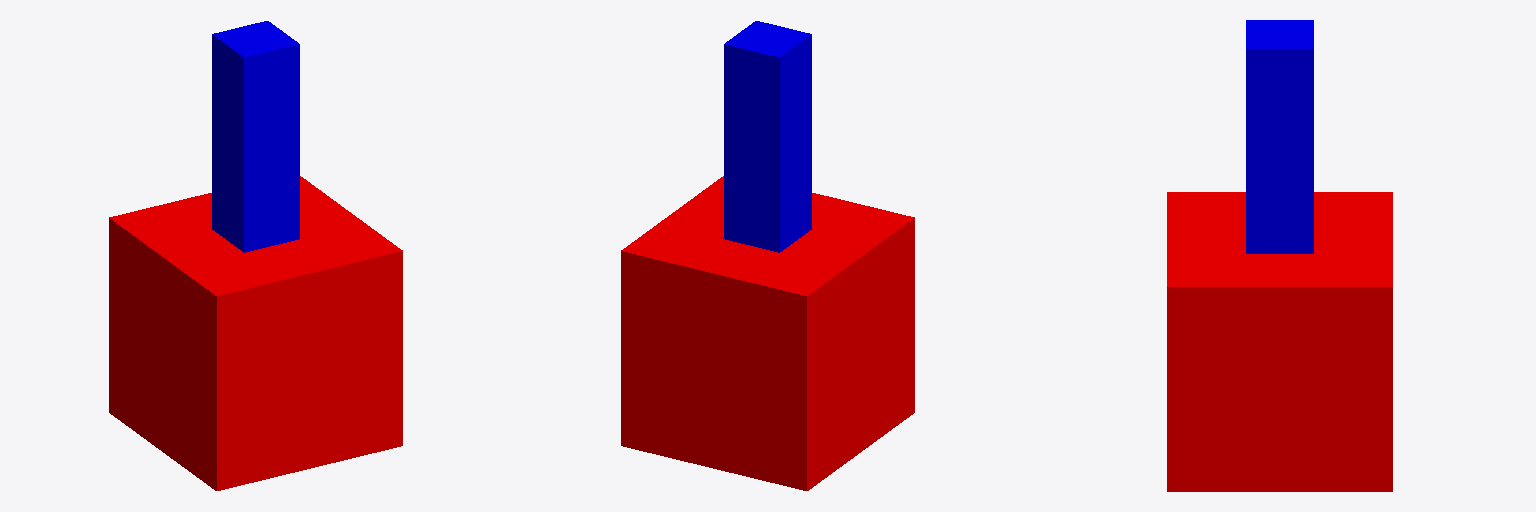
URDF robot description (arcsys2):
<?xml version="1.0"?>

<robot name="arcsys2">
  <material name="red"> <color rgba="1 0 0 1"/> </material>
  <material name="green"> <color rgba="0 1 0 1"/> </material>
  <material name="blue">  <color rgba="0 0 1 1"/> </material>

  <link name="base_link">
    <visual>
      <origin xyz="0.0 0.0 0.5" rpy="0.0 0.0 0.0"/>
      <geometry> <box size="1.0 1.0 1.0"/> </geometry>
      <material name="red"/>
    </visual>
  </link>

  <joint name="base2shaft" type="fixed">
    <parent link="base_link"/>
    <child link="main_shaft"/>
  </joint>

  <link name="main_shaft">
    <visual>
      <origin xyz="0.0 0.0 1.5" rpy="0.0 0.0 0.0"/>
      <geometry> <box size="0.3 0.3 1.0"/> </geometry>
      <material name="blue"/>
    </visual>
  </link>

</robot>

--- What the picture shows (computed from the rendered views, not written in the file) ---
3 views of the same robot in one strip: view 1: azimuth 30°, elevation 25°; view 2: azimuth 150°, elevation 25°; view 3: azimuth 270°, elevation 25° (orthographic).
Robot: arcsys2 — 2 links, 1 joints (1 fixed); root link base_link; default pose: all joints at 0.
Links seen in each view (by area): view 1: base_link, main_shaft; view 2: base_link, main_shaft; view 3: base_link, main_shaft.
Link boxes in pixels (x1,y1,x2,y2): base_link: (109,176,402,490); main_shaft: (212,21,299,252); base_link: (621,176,914,490); main_shaft: (724,21,811,252); base_link: (1167,192,1392,491); main_shaft: (1246,20,1313,253).
Size in the robot's own frame: 1 by 1 by 2 metres.
Geometry: primitives only (box / cylinder / sphere), no mesh files.